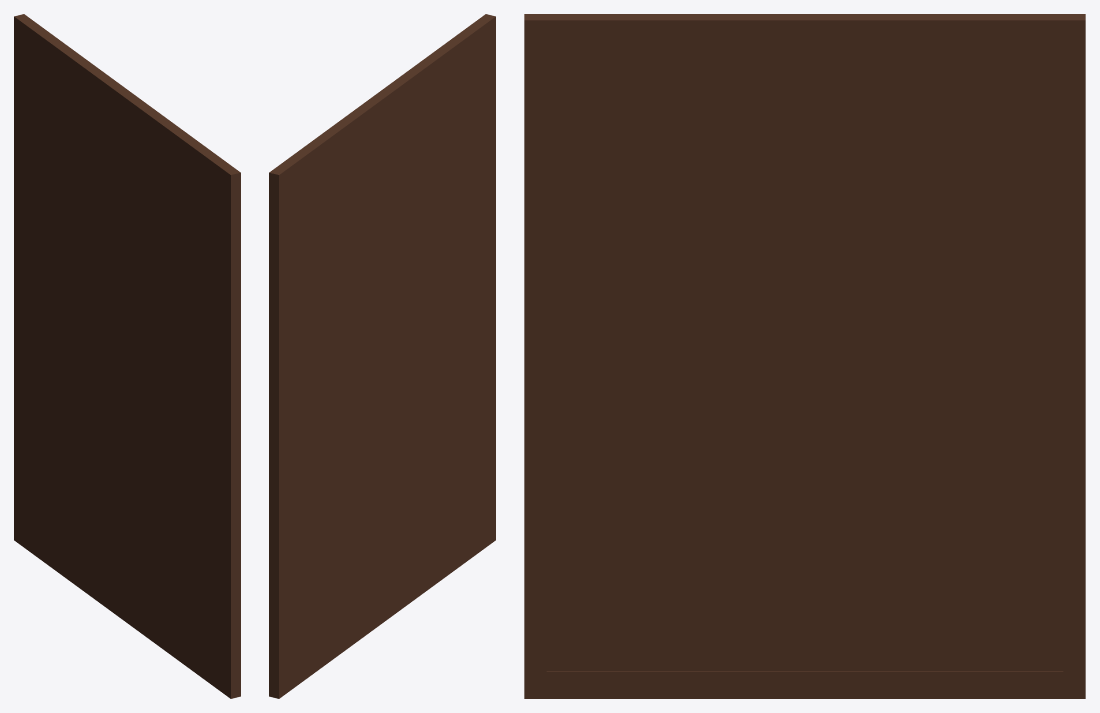
The model's file is Cuadro.fbx.
3 views of the same model, side by side, from view 1: azimuth 30°, elevation 25°; view 2: azimuth 150°, elevation 25°; view 3: azimuth 270°, elevation 25° (orthographic). The views are drawn at different scales.
Parts seen in each view (by area): view 1: Marco Cuadro; view 2: Marco Cuadro; view 3: Marco Cuadro.
Part boxes in pixels (<box>): Marco Cuadro: <box>14,14,240,698</box>; Marco Cuadro: <box>269,14,495,698</box>; Marco Cuadro: <box>524,14,1085,698</box>.
Bounding box in the file's own units: 2.62 × 130 × 97.5.
